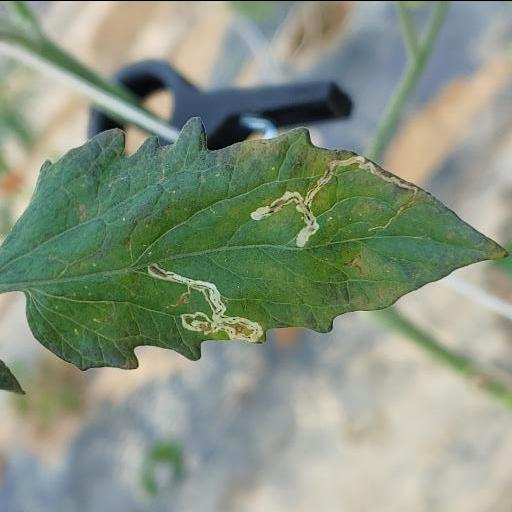disease_tomato: (0, 113, 510, 370)
